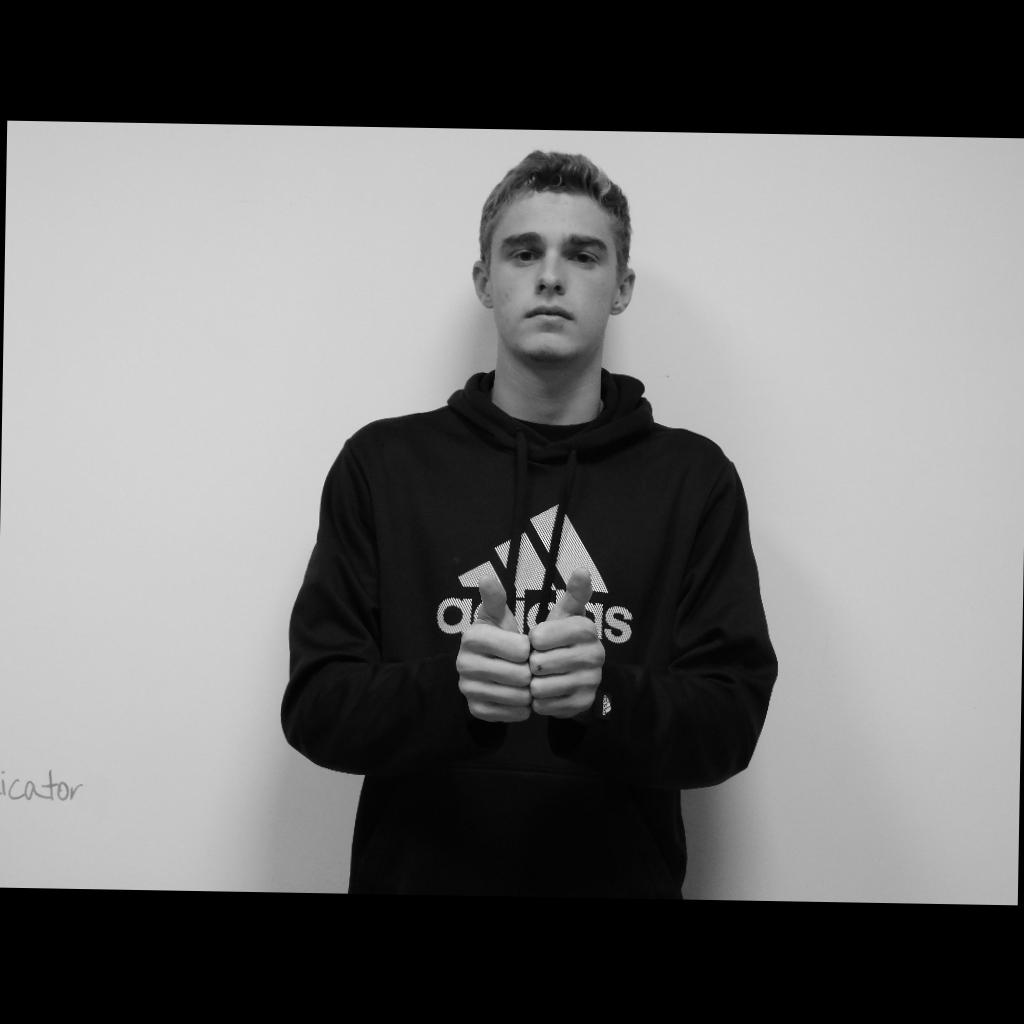how: (454, 564, 606, 724)
